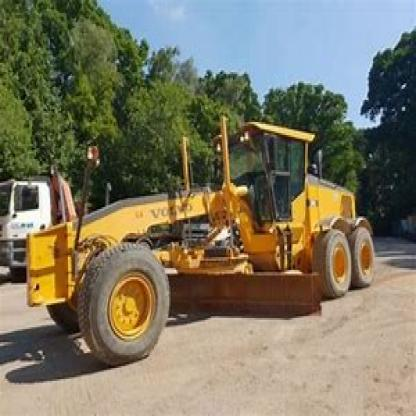bull_dozer/loader/grader: (14, 107, 414, 368)
